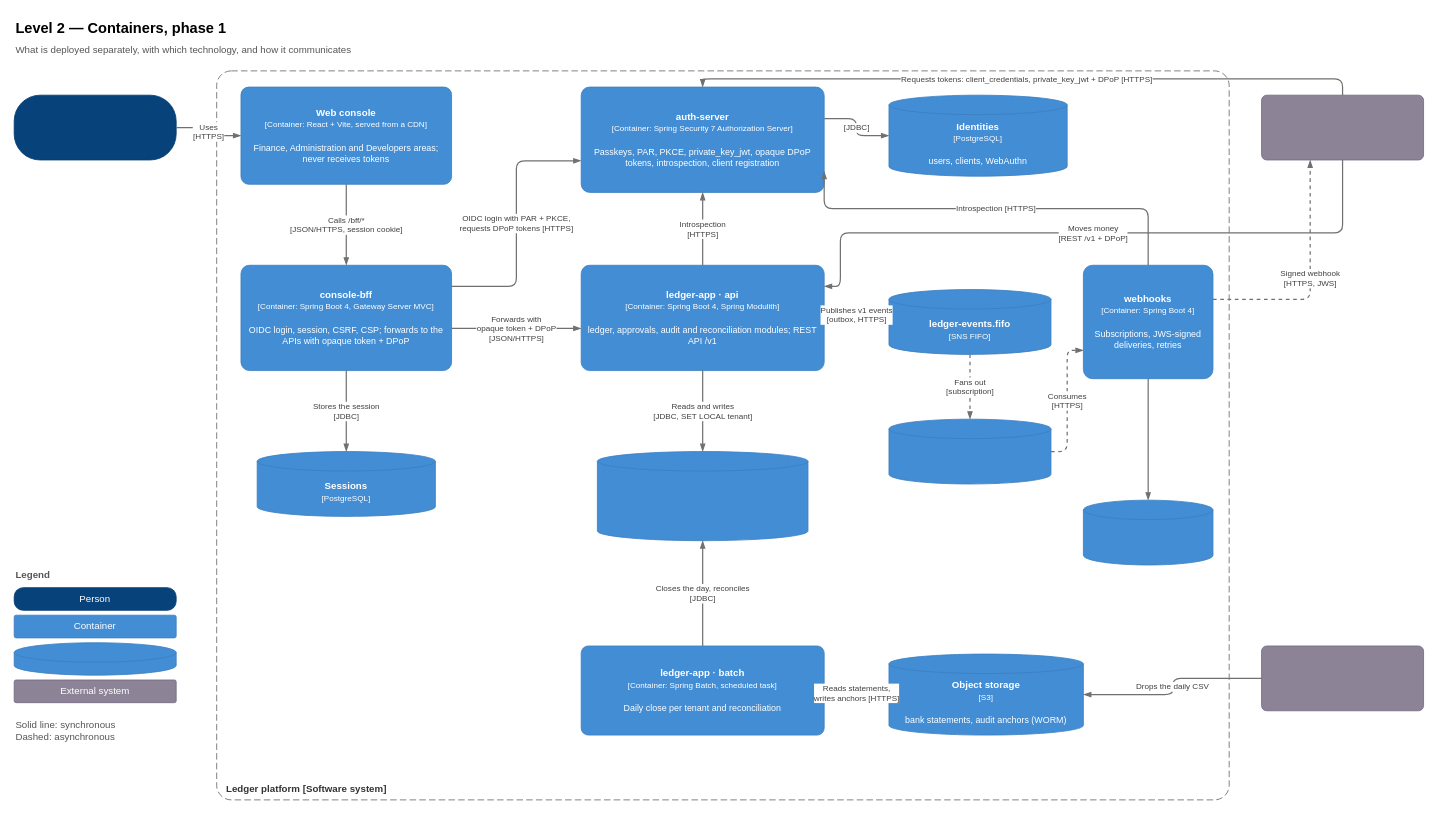
Image size: 1438x814. Some labels were removed from this diagram. Each missing label, with the centre of its shape:
Bank [External system]: point 1342,678
Database / queue: point 94,658
Fintech system [External system]: point 1342,127
Fintech team / Admin [Person]: point 94,127
Ledger [PostgreSQL + RLS] accounts, journal entries, audit log, outbox, BATCH_*: point 702,496
Webhooks [PostgreSQL]: point 1148,532
webhooks.fifo + DLQ [SQS FIFO]: point 969,451
